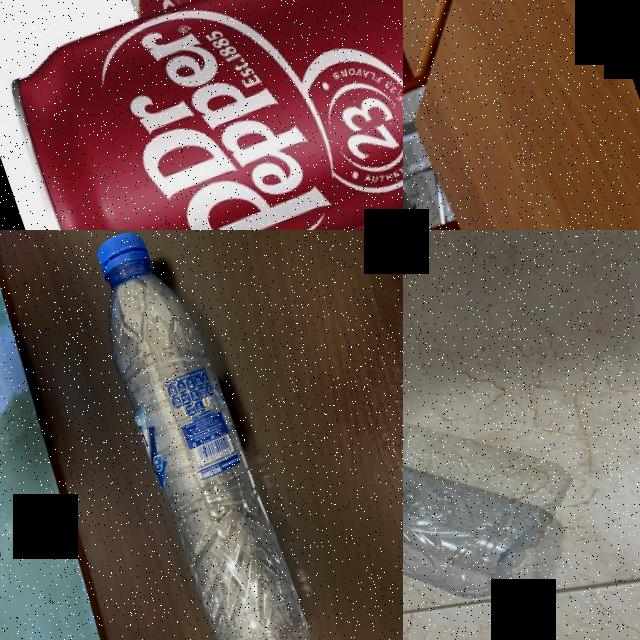bottle: (66, 230, 339, 640), (403, 337, 573, 640)
can: (0, 0, 403, 230)
